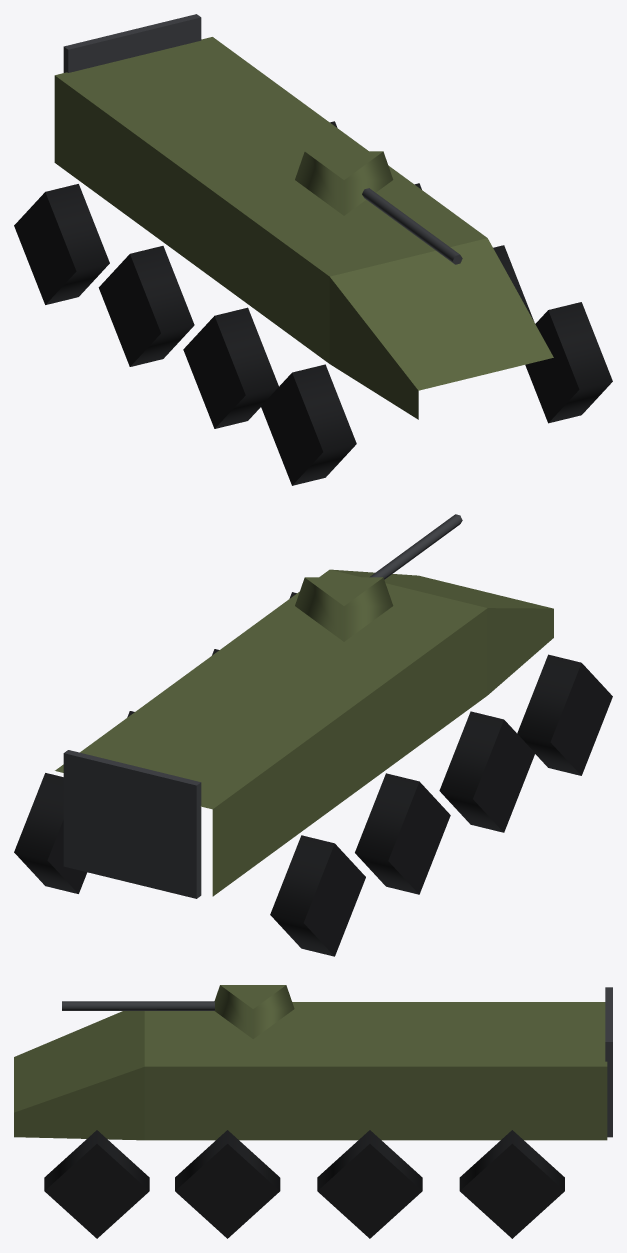
The model's file is veh_ground_apc_a06_lod2.glb.
3 views of the same model, one above another, from view 1: azimuth 30°, elevation 25°; view 2: azimuth 150°, elevation 25°; view 3: azimuth 270°, elevation 25° (orthographic). The views are drawn at different scales.
Visible parts, largest first — view 1: body, wheel_6, wheel_2, wheel_0, wheel_4, wheel_7, gun, ramp; view 2: body, ramp, wheel_0, wheel_2, wheel_4, wheel_6, gun, wheel_1; view 3: body, wheel_1, wheel_3, wheel_5, wheel_7, gun, ramp.
Part boxes in pixels (x1,y1,x2,y2): body: (54,37,553,419); wheel_6: (261,364,356,485); wheel_2: (98,246,194,366); wheel_0: (14,184,109,304); wheel_4: (183,307,278,428); wheel_7: (525,302,612,423); gun: (295,151,462,264); ramp: (63,14,201,72); body: (55,569,553,896); ramp: (63,750,201,898); wheel_0: (270,835,365,956); wheel_2: (355,773,450,894); wheel_4: (439,711,535,832); wheel_6: (517,654,612,775); gun: (295,514,462,641); wheel_1: (14,773,87,893); body: (14,1002,607,1140); wheel_1: (459,1130,564,1238); wheel_3: (317,1130,422,1238); wheel_5: (175,1130,280,1238); wheel_7: (44,1130,149,1238); gun: (62,985,294,1038); ramp: (605,987,612,1137).
Bounding box in the file's own units: 2.94 × 2.15 × 6.26.
